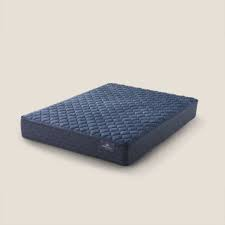bed-matress: (20, 83, 199, 168)
